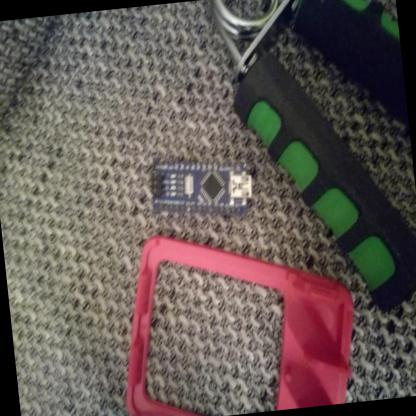Arduino_Nano: (145, 149, 259, 226)
